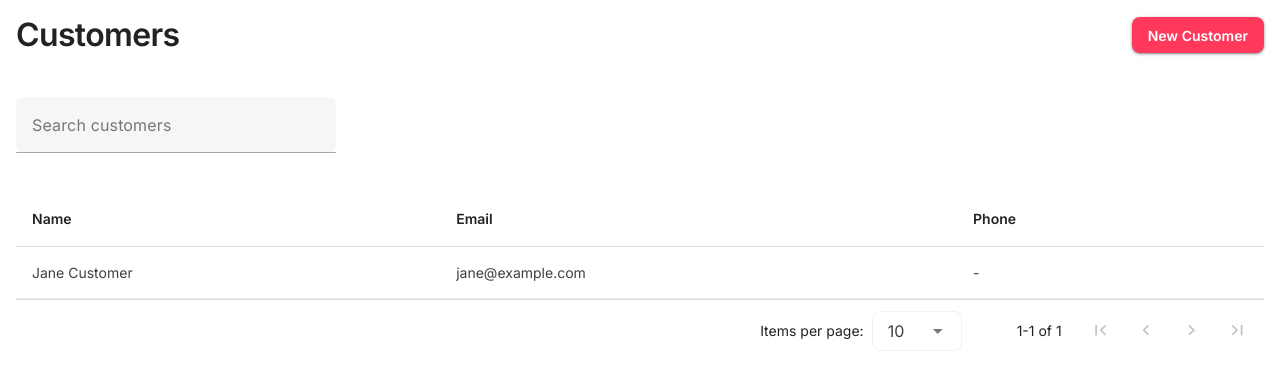
Test: CustomerListView › search debouncing › applies only the latest response when an earlier request resolves out of order
First (slower) search: "ja"
Type "ja" into the field labelled "Search customers" at (170, 125), box top-left (16, 97), bottom-right (324, 153)
Wait 300 ms
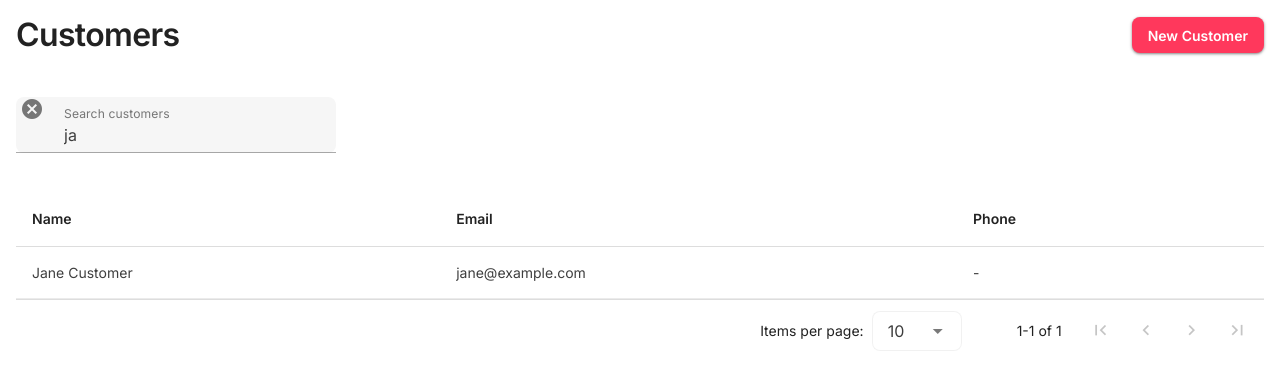
Second (faster) search: "jane", fired after the debounce for "ja" elapsed
Replace the text in the field labelled "Search customers" with "jane" at (186, 125), box top-left (48, 97), bottom-right (324, 153)
Wait 300 ms
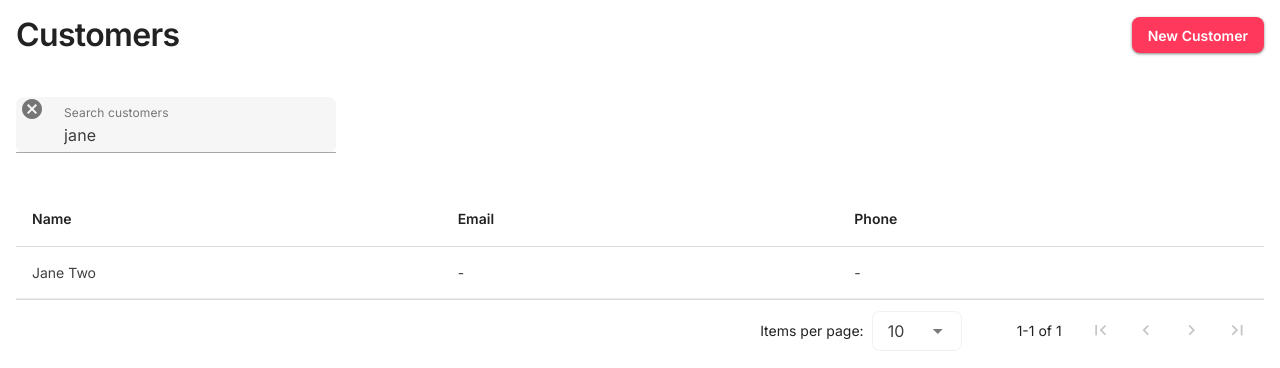
Check: the text "Jane Two" is shown, box top-left (16, 247), bottom-right (442, 299)
Check: the text "Jane Customer" is gone
